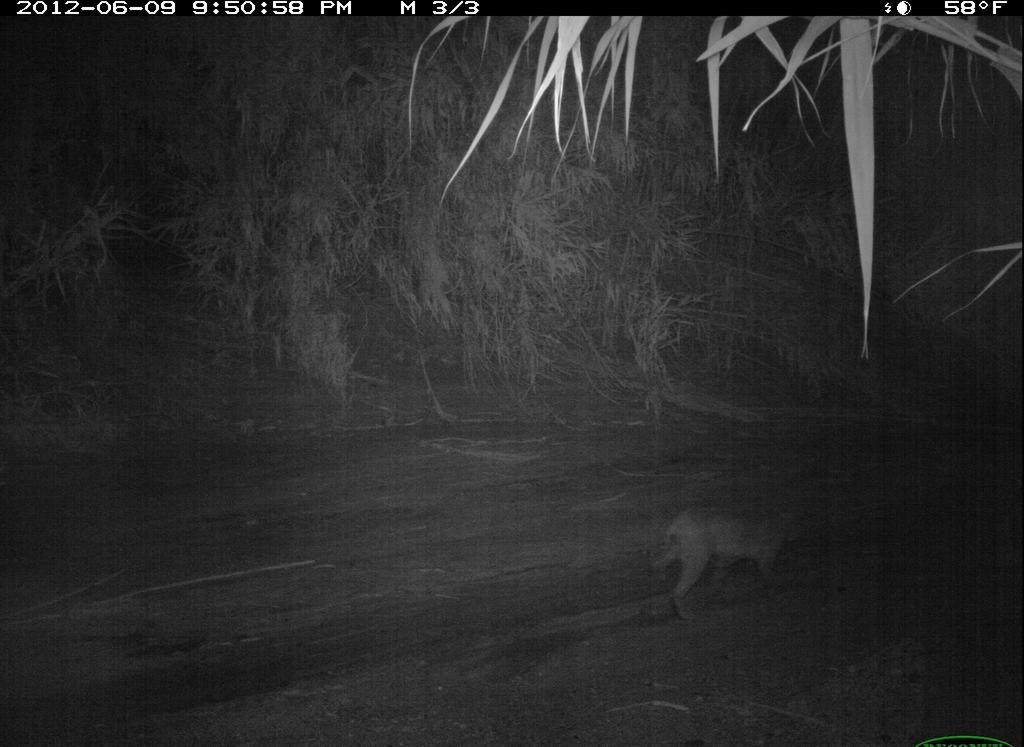bobcat: (646, 482, 822, 625)
